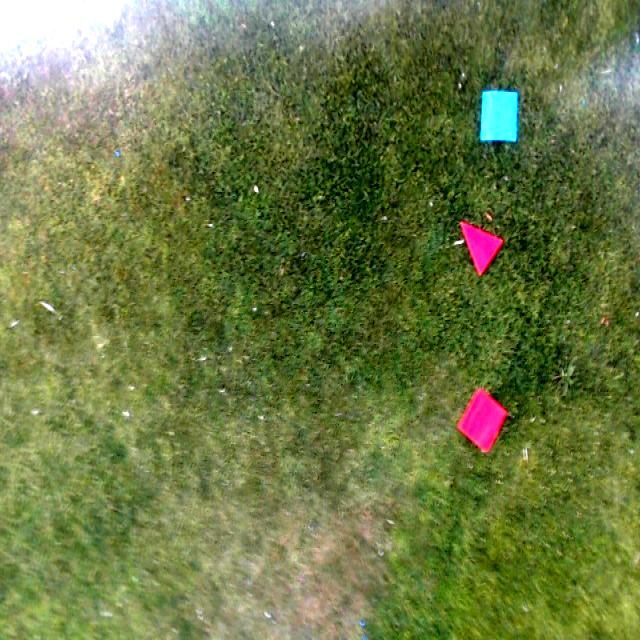blue_square: (481, 92, 519, 142)
red_square: (459, 388, 505, 452)
red_triangle: (462, 219, 503, 274)
